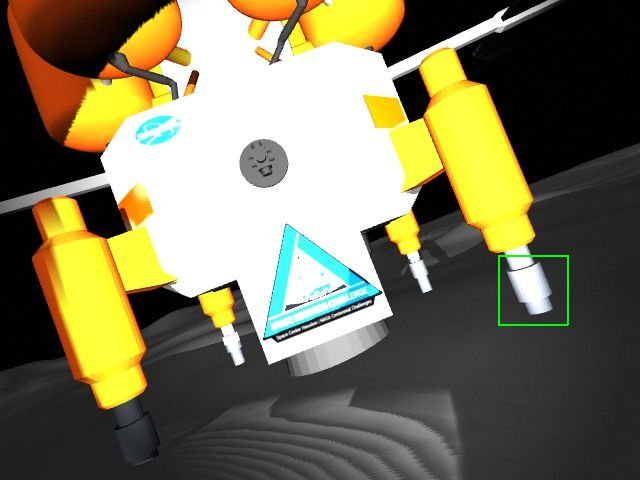basemarker: (263, 223, 383, 343)
